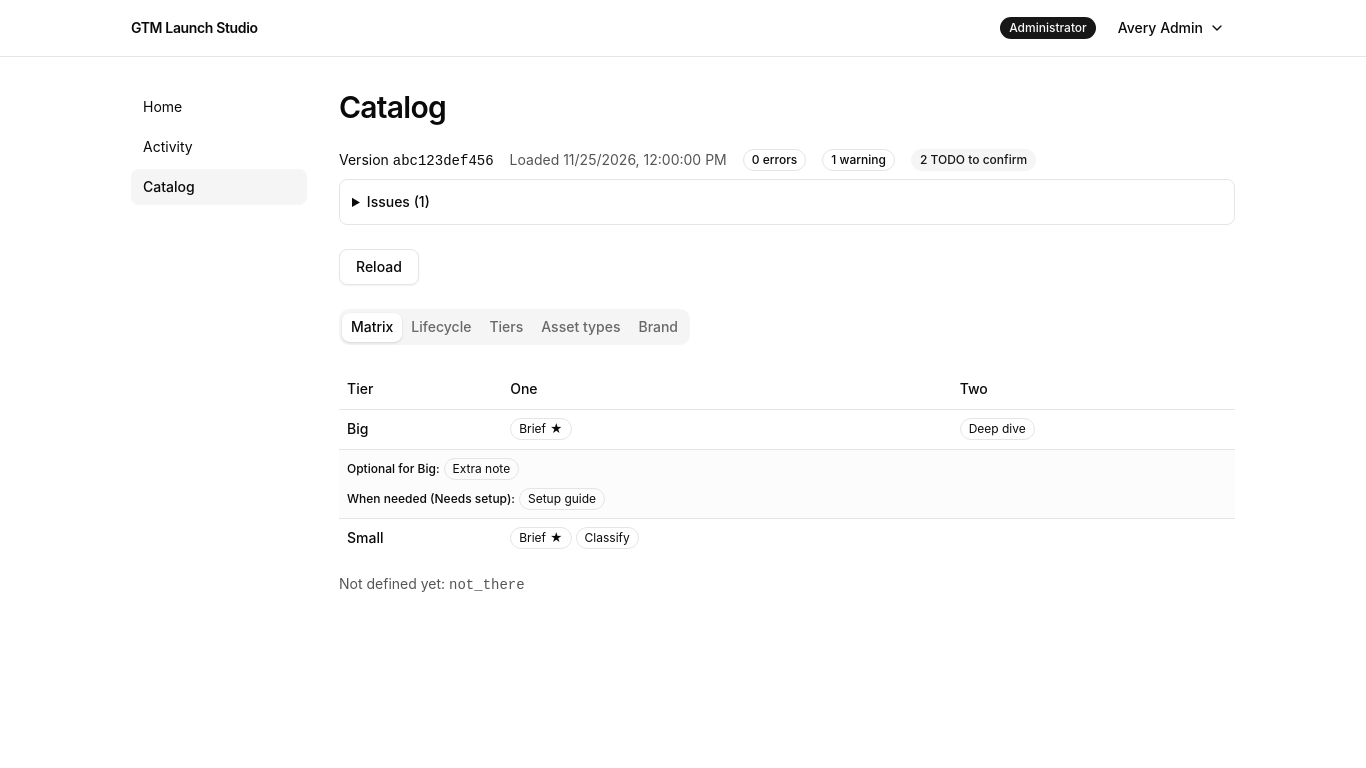
Test case: CatalogPage › tabs › Asset types filters by gate and audience
Expected: the heading "Catalog" is shown, [339, 89, 446, 125]
Click the tab "Asset types": (581, 327) [532, 312, 630, 342]
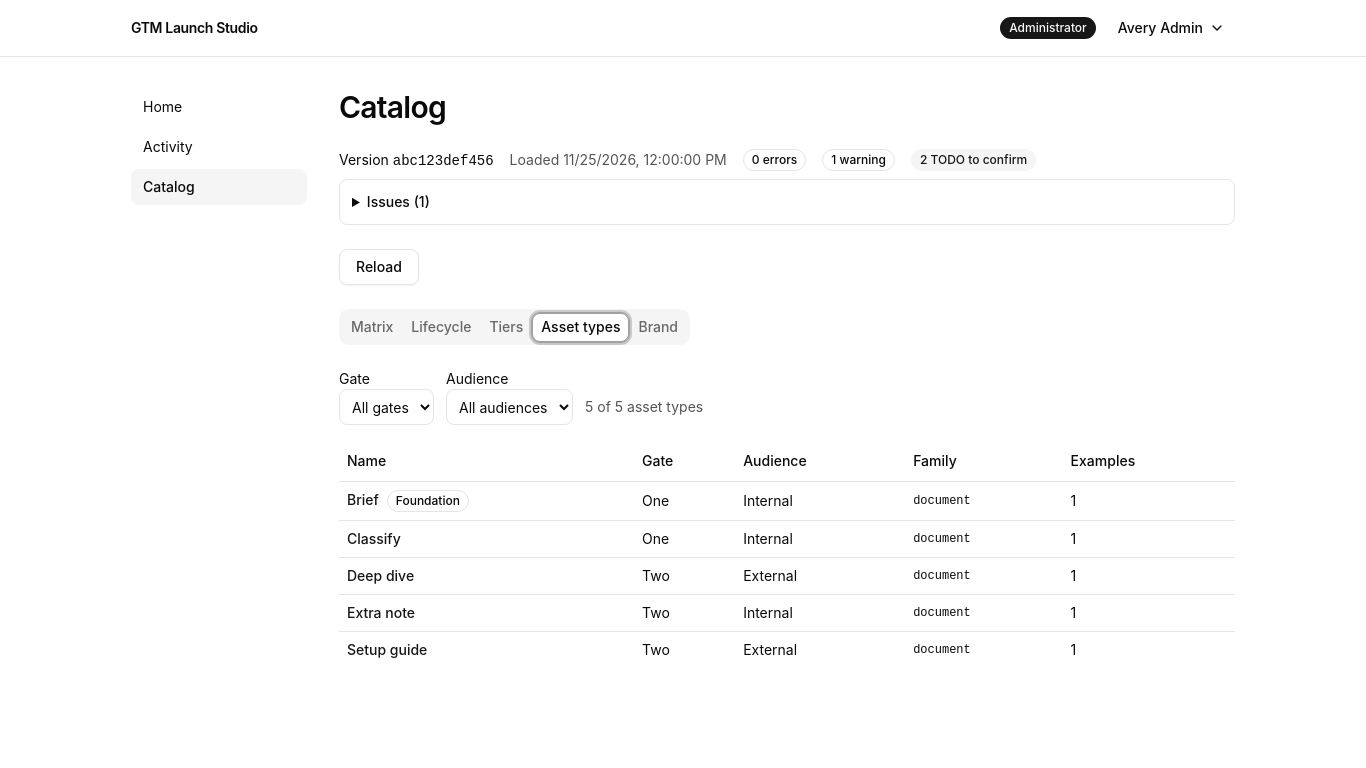
Select "Two" in the dropdown labelled "Gate": (386, 407) [339, 389, 434, 425]
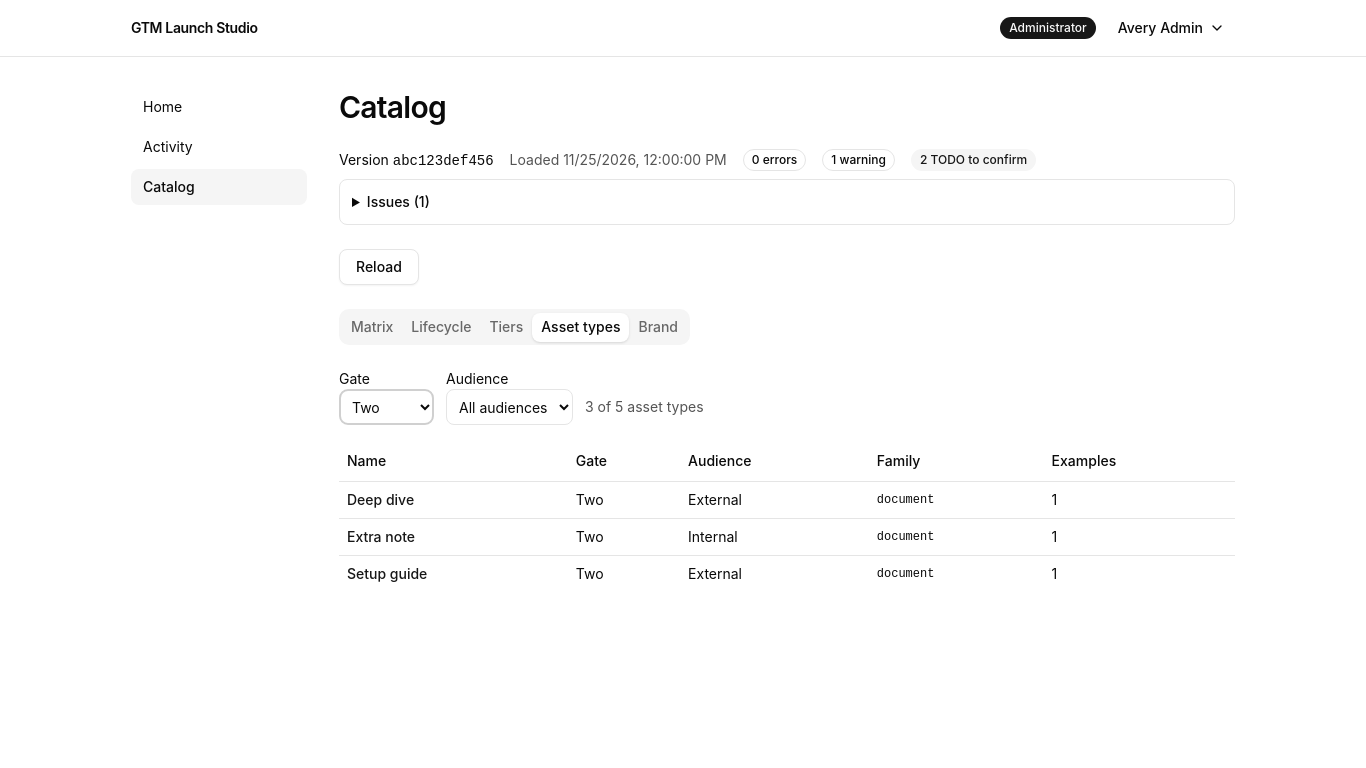
Select "external" in the dropdown labelled "Audience": (510, 407) [446, 389, 573, 425]
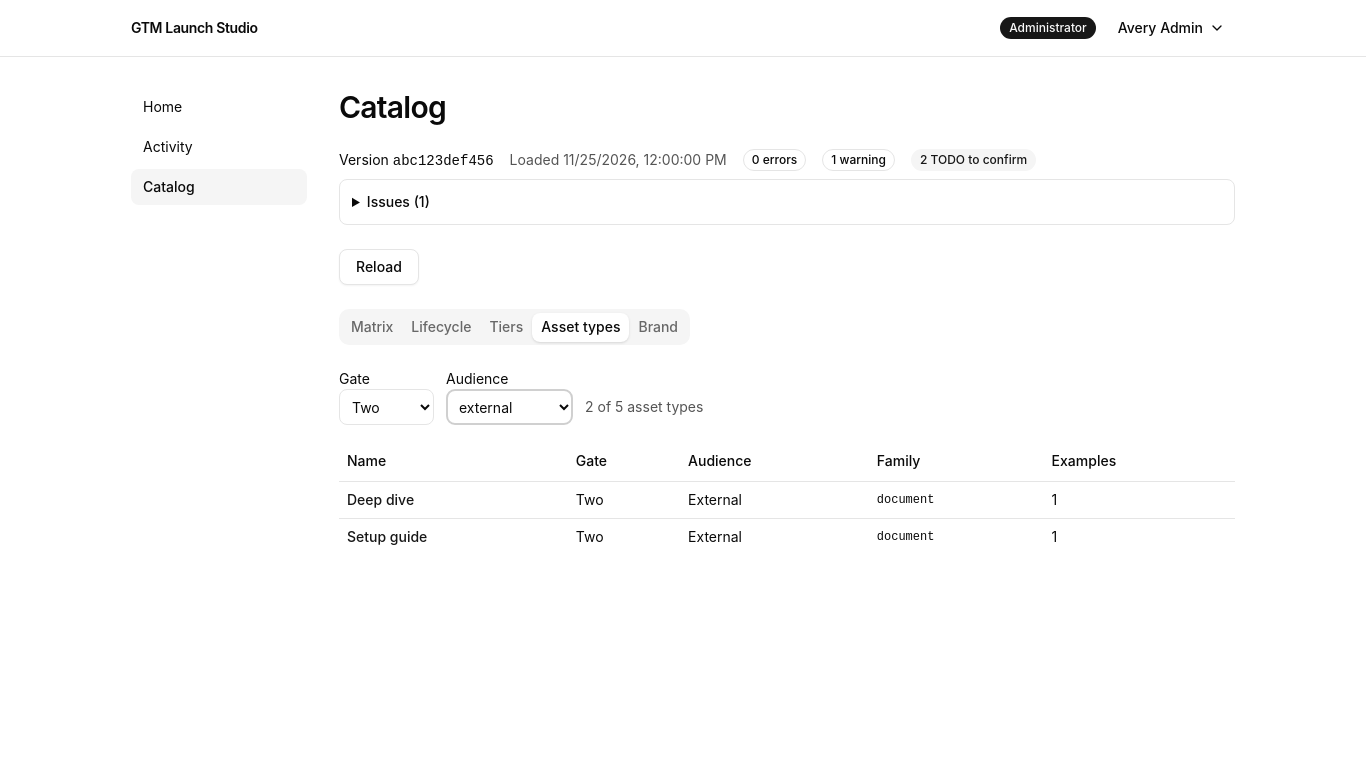
Expected: the message reads "2 of 5 asset types", [585, 397, 703, 425]
